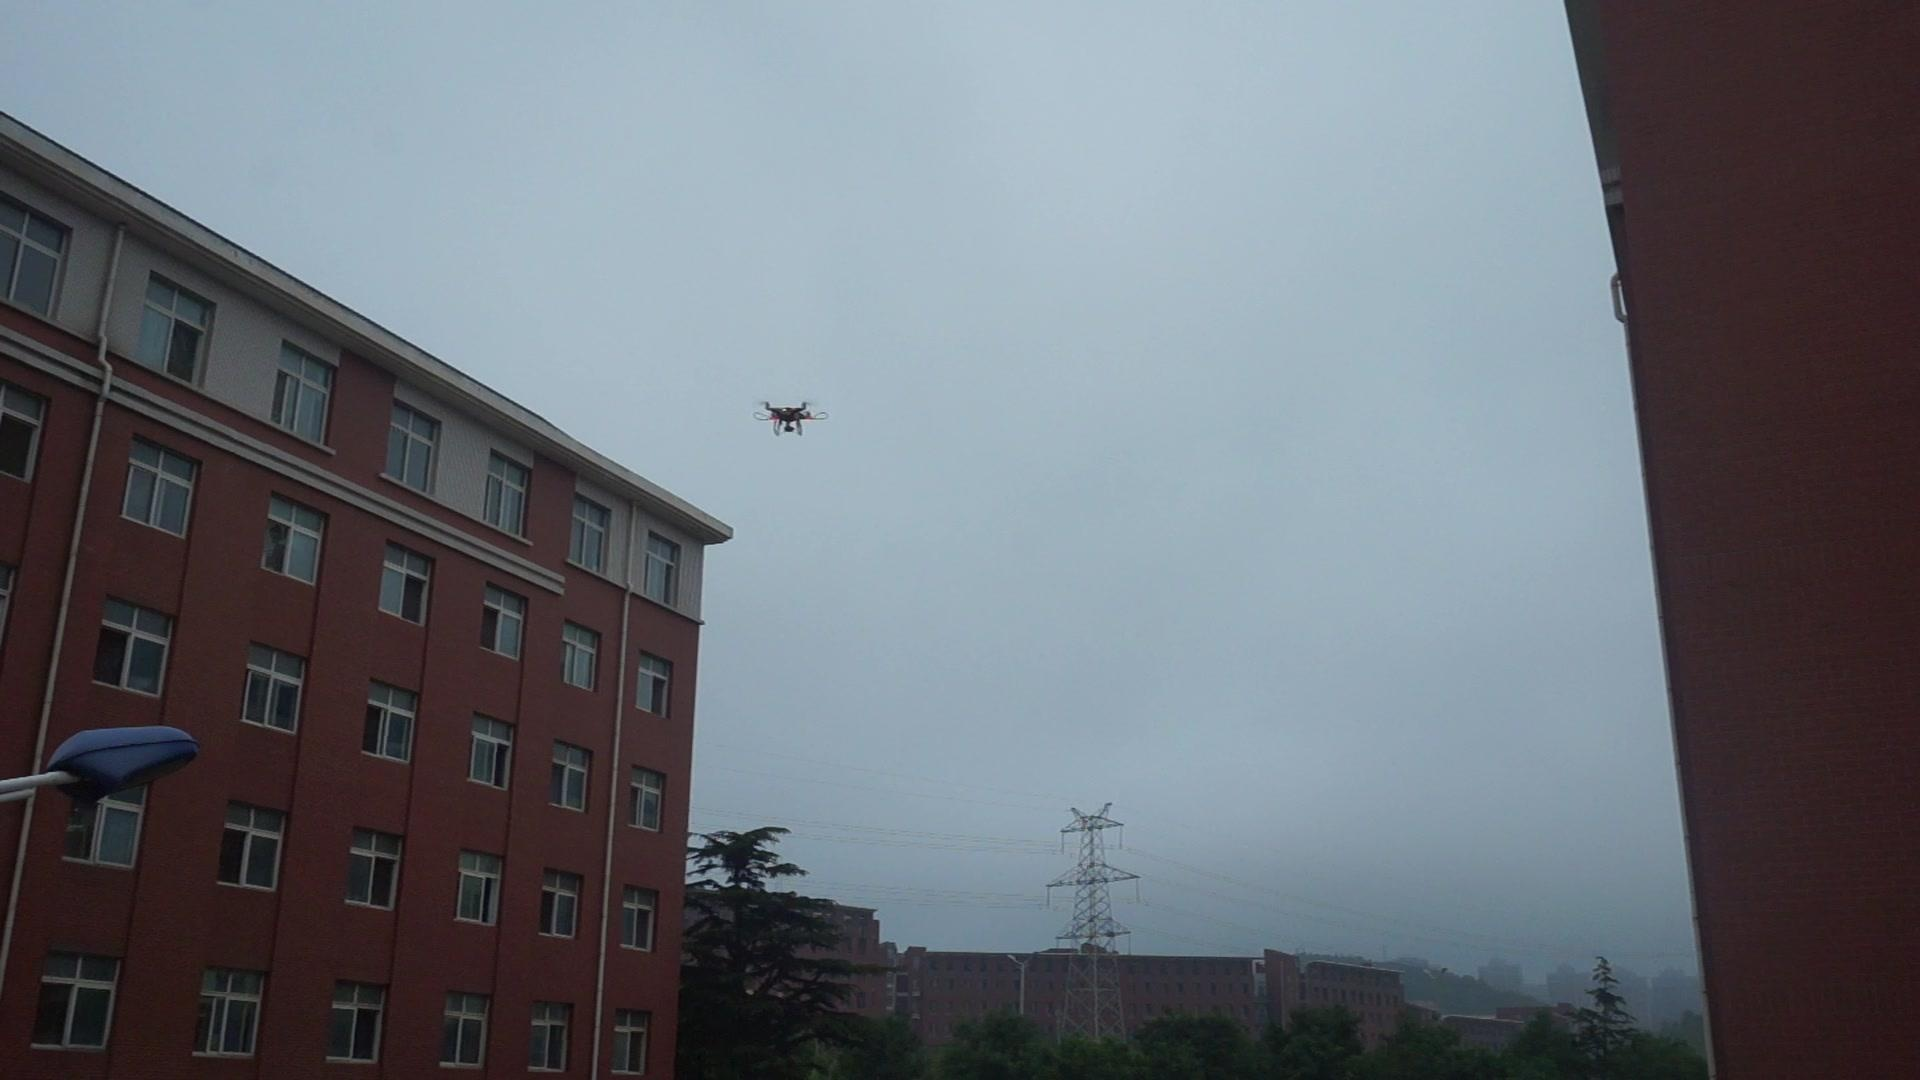UAV: (754, 404, 829, 436)
